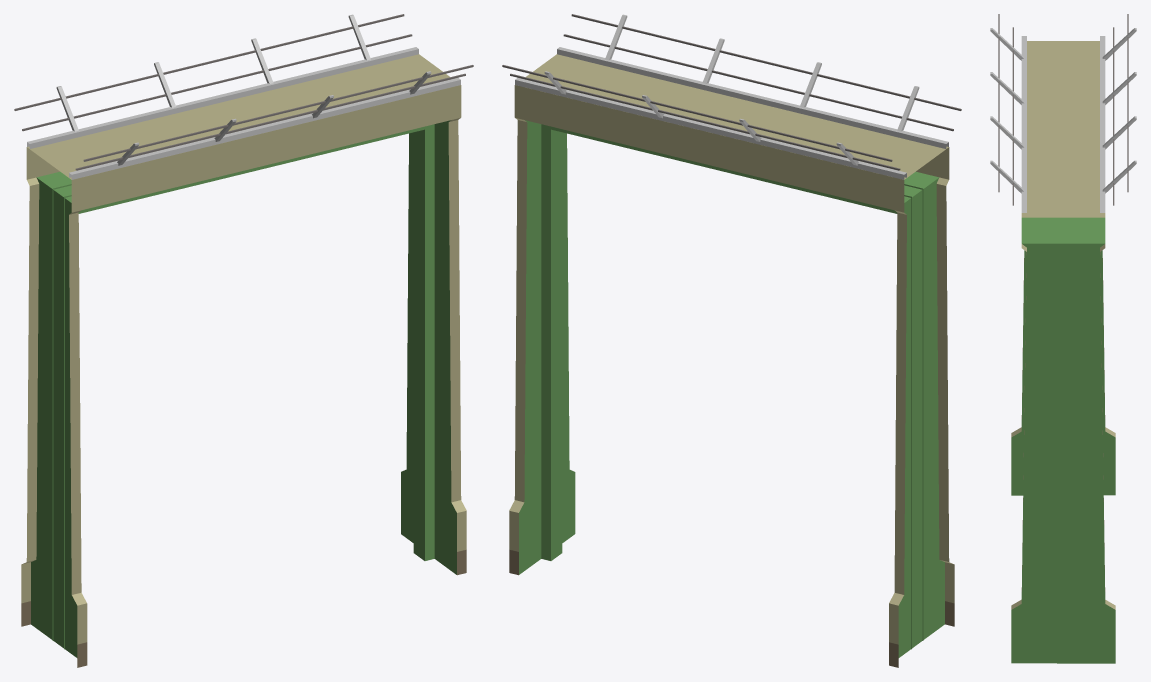
The model's file is SM_Wall_Big_DoorFrame_B_800.FBX.
3 views of the same model, side by side, from view 1: azimuth 30°, elevation 25°; view 2: azimuth 150°, elevation 25°; view 3: azimuth 270°, elevation 25° (orthographic). The views are drawn at different scales.
Parts seen in each view (by area): view 1: SM_Wall_Big_DoorFrame_B_800; view 2: SM_Wall_Big_DoorFrame_B_800; view 3: SM_Wall_Big_DoorFrame_B_800.
Part boxes in pixels (box(x1,y1,x2,y2)): SM_Wall_Big_DoorFrame_B_800: box(14, 14, 473, 667); SM_Wall_Big_DoorFrame_B_800: box(502, 14, 961, 667); SM_Wall_Big_DoorFrame_B_800: box(990, 14, 1136, 663).
Size of the model in its own units: 800 by 279 by 1022.
